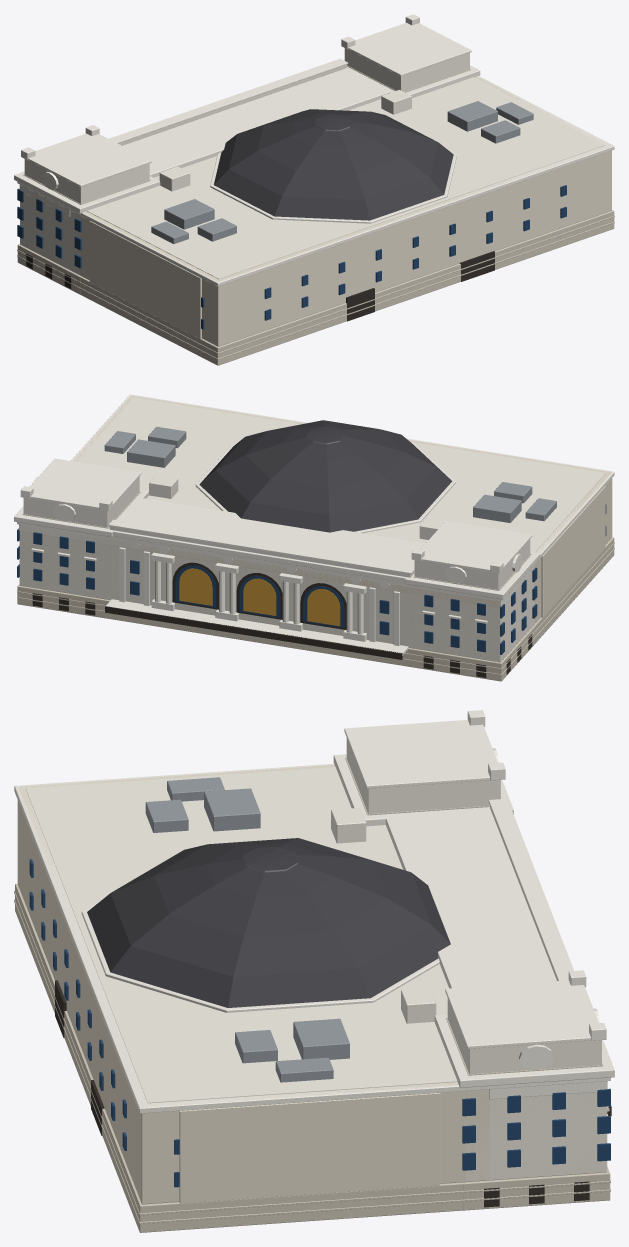
Rendered from bill-graham-civic-auditorium.glb.
The picture shows the model from 3 angles, top to bottom: view 1: azimuth 30°, elevation 25°; view 2: azimuth 150°, elevation 25°; view 3: azimuth 270°, elevation 25°; orthographic projection. The views are drawn at different scales.
Parts seen in each view (by area): view 1: hall, deck, cornice, hall_base, dome_b, hall_pil_w, dome_a, dome_c, hall_cornice, pav_attic_cap_e, pav_attic_cap_w, front_range (+22 smaller); view 2: deck, front_range, hall, cornice, dome_b, dome_a, dome_c, hall_pil_w, pav_attic_cap_e, pav_attic_cap_w, hall_cornice, hall_base (+33 smaller); view 3: deck, hall_pil_e, hall, cornice, dome_b, dome_a, dome_c, hall_base, hall_cornice, pav_attic_cap_e, pav_attic_cap_w, front_range (+23 smaller).
Part boxes in pixels (box(x1,y1,x2,y2)): hall: box(20, 76, 611, 346); deck: box(87, 77, 605, 279); cornice: box(15, 66, 392, 207); hall_base: box(52, 210, 614, 365); dome_b: box(229, 110, 438, 199); hall_pil_w: box(89, 221, 201, 339); dome_a: box(214, 134, 453, 220); dome_c: box(257, 109, 409, 173); hall_cornice: box(17, 76, 614, 286); pav_attic_cap_e: box(348, 22, 471, 76); pav_attic_cap_w: box(28, 133, 151, 187); front_range: box(20, 193, 69, 269); deck: box(77, 397, 605, 552); front_range: box(19, 532, 528, 662); hall: box(19, 395, 612, 661); cornice: box(113, 498, 533, 597); dome_b: box(215, 429, 435, 515); dome_a: box(199, 435, 452, 532); dome_c: box(246, 420, 405, 487); hall_pil_w: box(541, 486, 605, 617); pav_attic_cap_e: box(29, 458, 141, 509); pav_attic_cap_w: box(421, 521, 532, 571); hall_cornice: box(17, 394, 614, 601); hall_base: box(32, 537, 614, 666); deck: box(26, 767, 457, 1103); hall_pil_e: box(179, 1093, 440, 1203); hall: box(17, 765, 606, 1204); cornice: box(385, 787, 610, 1085); dome_b: box(110, 844, 431, 976); dome_a: box(87, 872, 450, 1007); dome_c: box(154, 838, 387, 936); hall_base: box(15, 884, 607, 1232); hall_cornice: box(14, 763, 610, 1113); pav_attic_cap_e: box(445, 980, 598, 1048); pav_attic_cap_w: box(344, 720, 497, 788); front_range: box(489, 1092, 607, 1180).
Bounding box in the file's own units: 141 × 37 × 100.
